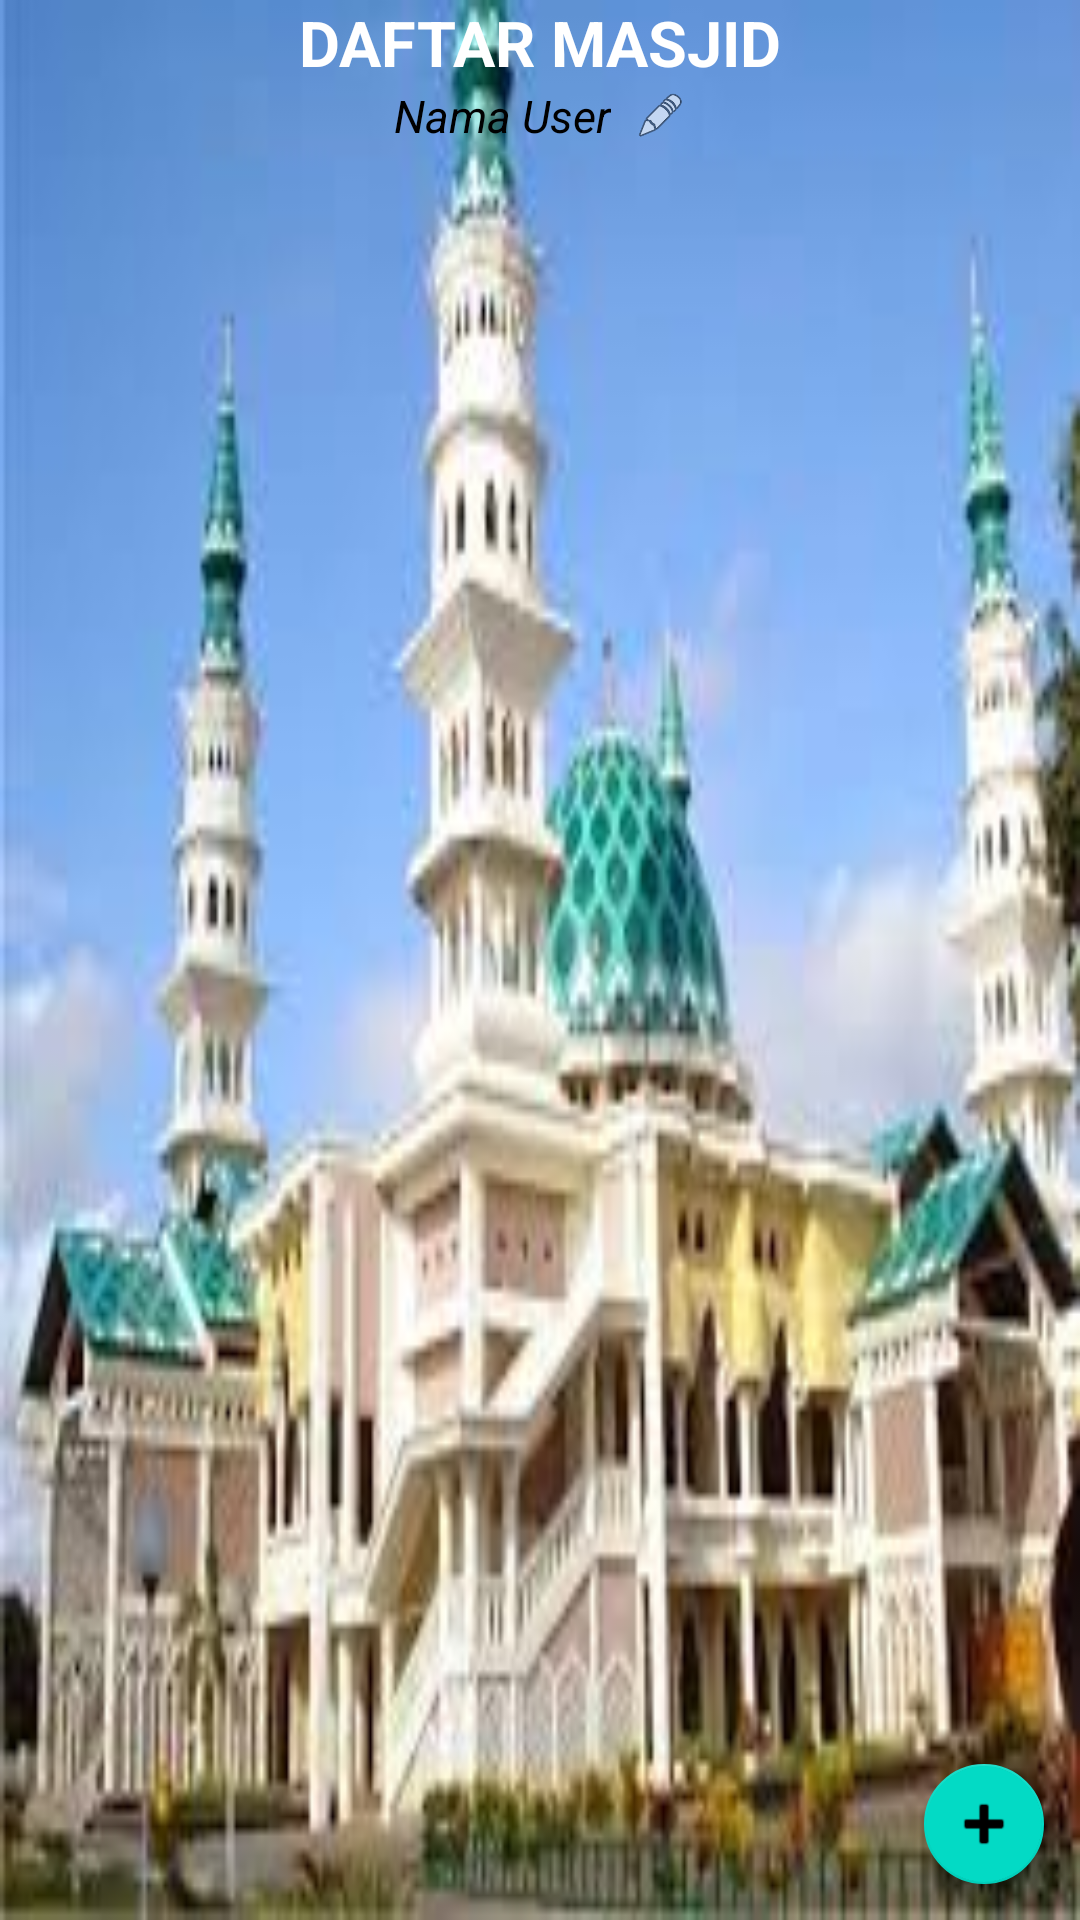

Screen size 1080x1920. Icon name, then its center in pixels as point (x, y):
add: point (984, 1824)
edit: point (660, 115)
